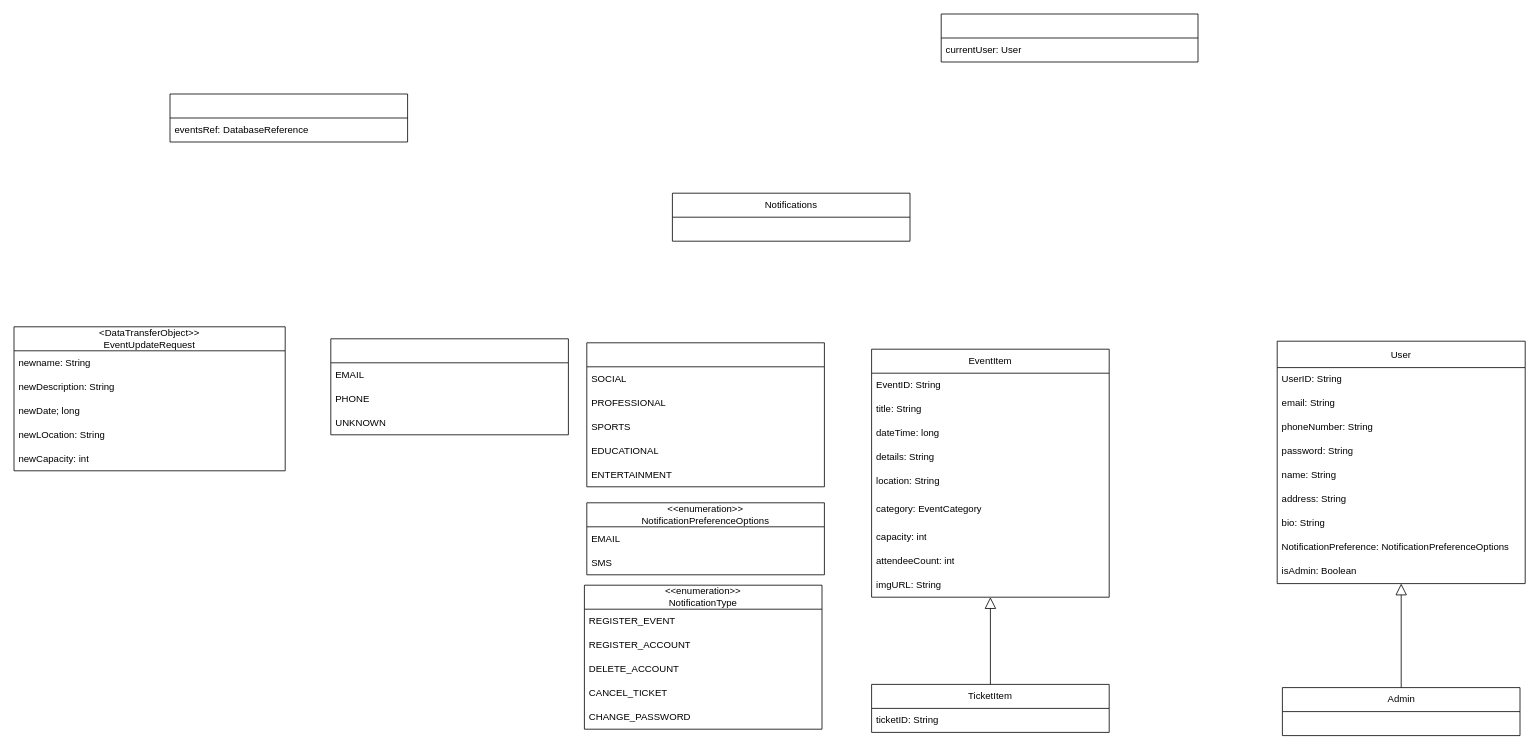
The diagram is 1539 pixels wide and 750 high, and some of its shapes have lost their labels. Each missing label, with the box of its shape:
<<enumeration>> EventCategory: (586, 342, 824, 487)
<<enumeration>> UserInputType: (330, 338, 568, 435)
<<Signleton>> UserInSession: (940, 13, 1198, 62)
EventCatalog: (169, 93, 408, 142)
